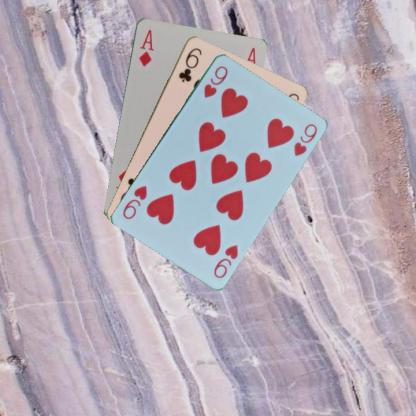6c: (176, 45, 202, 83)
9h: (201, 62, 230, 100), (211, 242, 240, 280)
Ad: (136, 26, 155, 68)
